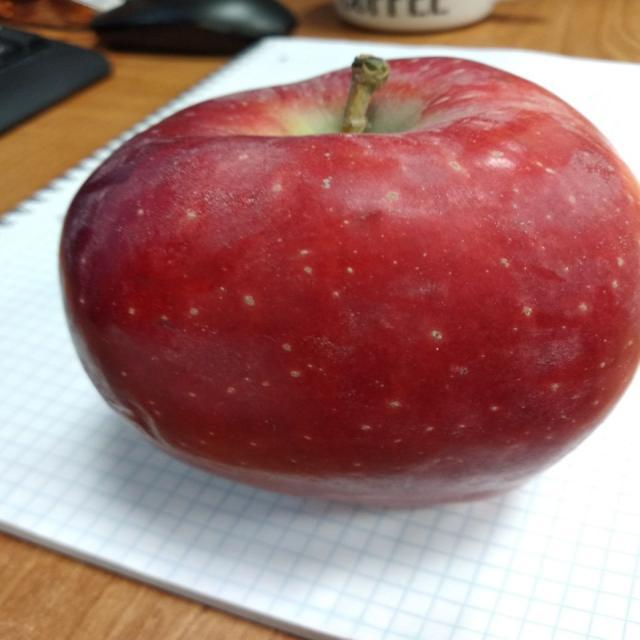Fresh Apple: (62, 65, 633, 457)
